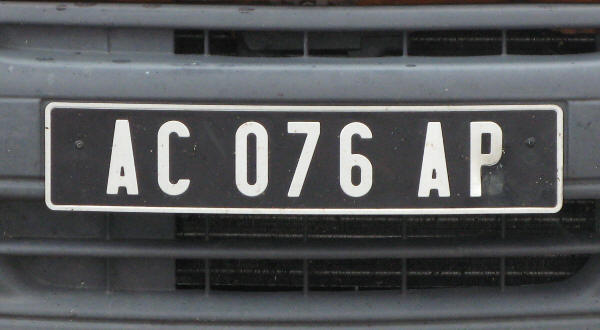license_plate: (45, 102, 563, 215)
